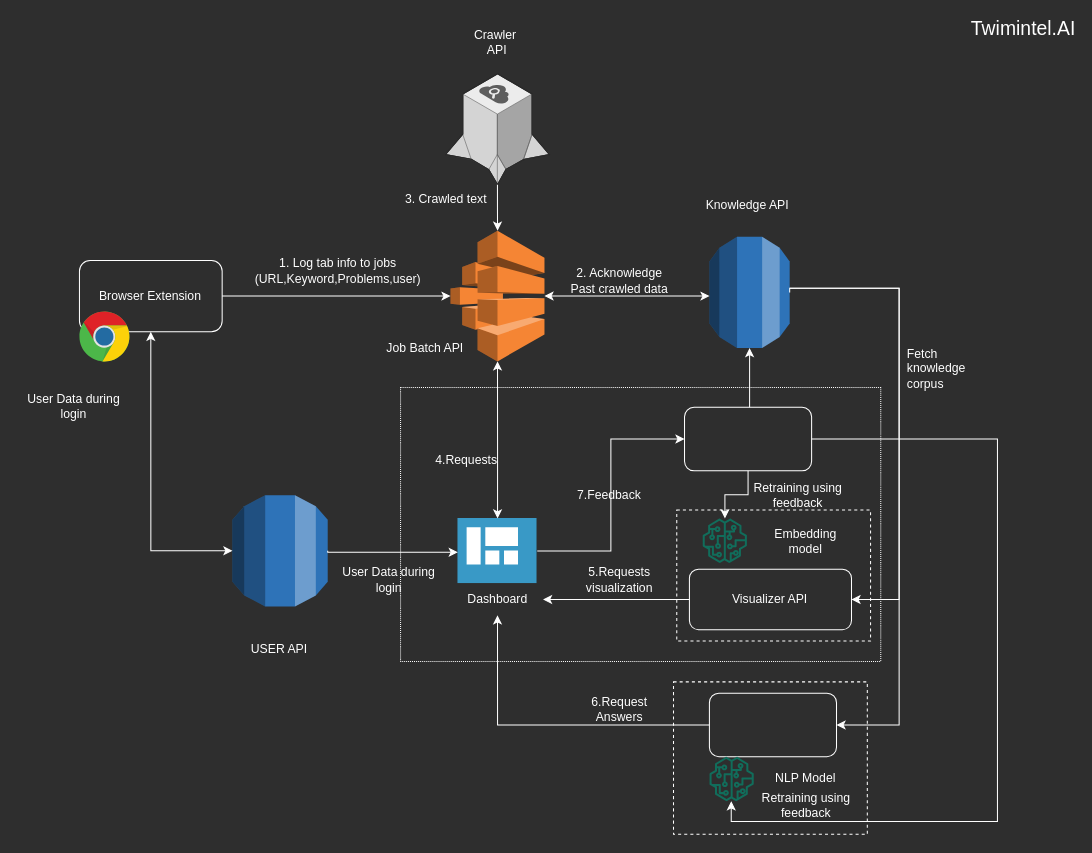
Image size: 1092x853. Some labels were removed from this diagram. The box of each missing label's shape, as (x1, y1, x2, y2) in pixels:
Answere API: (708, 692, 837, 757)
Feedback API: (684, 406, 812, 471)
